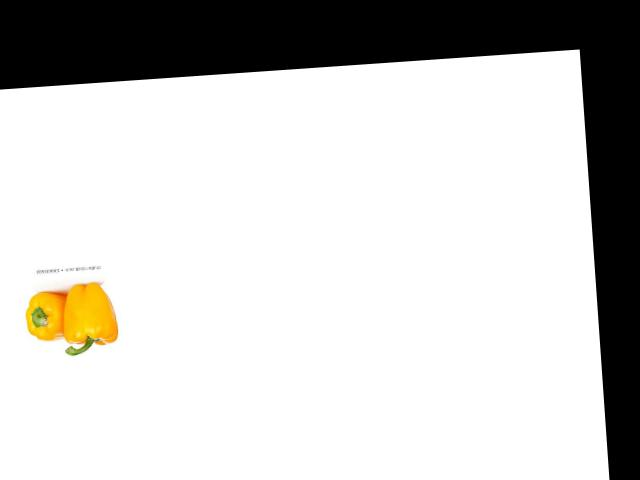bell_pepper: (23, 287, 72, 346)
